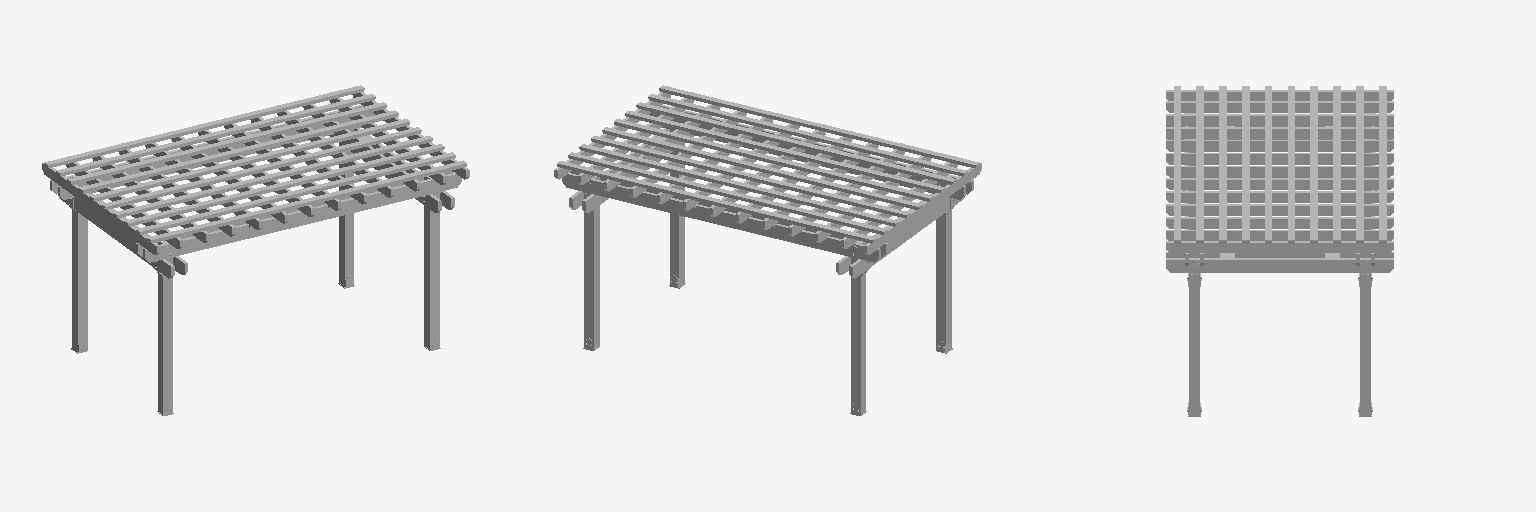
The model's file is santa-monica-10x16-chamfer.obj.
3 views of the same model, side by side, from view 1: azimuth 30°, elevation 25°; view 2: azimuth 150°, elevation 25°; view 3: azimuth 270°, elevation 25° (orthographic).
Parts seen in each view (by area): view 1: Mesh173 Component_20_4 Group42 Group1 Model, Mesh184 Component_4_4 Group1 Model, Mesh195 Component_4_6 Group1 Model, Mesh175 Component_4_1 Group1 Model, Mesh176 Component_4_2 Group1 Model, Mesh192 Component_4_5 Group1 Model, Mesh201 Component_4_8 Group1 Model, Mesh202 Component_4_9 Group1 Model, Mesh180 Component_4_3 Group1 Model, Mesh203 Component_4_10 Group1 Model, Mesh198 Component_4_7 Group1 Model, Mesh174 Component_95_1 Group1 Model (+18 smaller); view 2: Mesh27 Component_20_1 Group7 Group1 Model, Mesh184 Component_4_4 Group1 Model, Mesh202 Component_4_9 Group1 Model, Mesh192 Component_4_5 Group1 Model, Mesh175 Component_4_1 Group1 Model, Mesh176 Component_4_2 Group1 Model, Mesh180 Component_4_3 Group1 Model, Mesh201 Component_4_8 Group1 Model, Mesh198 Component_4_7 Group1 Model, Mesh203 Component_4_10 Group1 Model, Mesh195 Component_4_6 Group1 Model, Mesh183 Component_95_3 Group1 Model (+18 smaller); view 3: Mesh130 Component_9_2 Group30 Group1 Model, Mesh60 Component_13_4 Group16 Group1 Model, Mesh124 Component_13_10 Group28 Group1 Model, Mesh50 Component_13_2 Group14 Group1 Model, Mesh55 Component_13_3 Group15 Group1 Model, Mesh65 Component_13_5 Group17 Group1 Model, Mesh70 Component_13_6 Group18 Group1 Model, Mesh93 Component_13_7 Group22 Group1 Model, Mesh119 Component_13_9 Group27 Group1 Model, Mesh166 Component_13_12 Group39 Group1 Model, Mesh171 Component_13_13 Group40 Group1 Model, Mesh129 Component_13_11 Group29 Group1 Model (+15 smaller).
Boxes of the visible parts, x1,y1,x2,y2 form: Mesh173 Component_20_4 Group42 Group1 Model: [143, 173, 461, 262]; Mesh184 Component_4_4 Group1 Model: [147, 160, 466, 243]; Mesh195 Component_4_6 Group1 Model: [79, 110, 398, 192]; Mesh175 Component_4_1 Group1 Model: [67, 102, 386, 184]; Mesh176 Component_4_2 Group1 Model: [124, 144, 444, 226]; Mesh192 Component_4_5 Group1 Model: [90, 119, 409, 201]; Mesh201 Component_4_8 Group1 Model: [136, 152, 455, 234]; Mesh202 Component_4_9 Group1 Model: [102, 127, 421, 209]; Mesh180 Component_4_3 Group1 Model: [113, 136, 432, 217]; Mesh203 Component_4_10 Group1 Model: [45, 85, 364, 167]; Mesh198 Component_4_7 Group1 Model: [56, 94, 375, 176]; Mesh174 Component_95_1 Group1 Model: [424, 176, 439, 349]; Mesh27 Component_20_1 Group7 Group1 Model: [562, 173, 880, 262]; Mesh184 Component_4_4 Group1 Model: [659, 85, 978, 167]; Mesh202 Component_4_9 Group1 Model: [614, 119, 933, 201]; Mesh192 Component_4_5 Group1 Model: [602, 127, 921, 209]; Mesh175 Component_4_1 Group1 Model: [579, 144, 898, 226]; Mesh176 Component_4_2 Group1 Model: [636, 102, 956, 184]; Mesh180 Component_4_3 Group1 Model: [625, 111, 944, 192]; Mesh201 Component_4_8 Group1 Model: [648, 94, 967, 176]; Mesh198 Component_4_7 Group1 Model: [568, 152, 887, 234]; Mesh203 Component_4_10 Group1 Model: [557, 161, 876, 243]; Mesh195 Component_4_6 Group1 Model: [591, 136, 910, 217]; Mesh183 Component_95_3 Group1 Model: [584, 176, 599, 349]; Mesh130 Component_9_2 Group30 Group1 Model: [1166, 258, 1393, 272]; Mesh60 Component_13_4 Group16 Group1 Model: [1166, 241, 1393, 252]; Mesh124 Component_13_10 Group28 Group1 Model: [1166, 178, 1393, 189]; Mesh50 Component_13_2 Group14 Group1 Model: [1166, 217, 1393, 228]; Mesh55 Component_13_3 Group15 Group1 Model: [1166, 191, 1393, 202]; Mesh65 Component_13_5 Group17 Group1 Model: [1166, 114, 1393, 125]; Mesh70 Component_13_6 Group18 Group1 Model: [1166, 101, 1393, 112]; Mesh93 Component_13_7 Group22 Group1 Model: [1166, 204, 1393, 215]; Mesh119 Component_13_9 Group27 Group1 Model: [1166, 153, 1393, 164]; Mesh166 Component_13_12 Group39 Group1 Model: [1166, 140, 1393, 151]; Mesh171 Component_13_13 Group40 Group1 Model: [1166, 127, 1393, 138]; Mesh129 Component_13_11 Group29 Group1 Model: [1166, 166, 1393, 177].
Bounding box in the file's own units: 192 × 108 × 120.